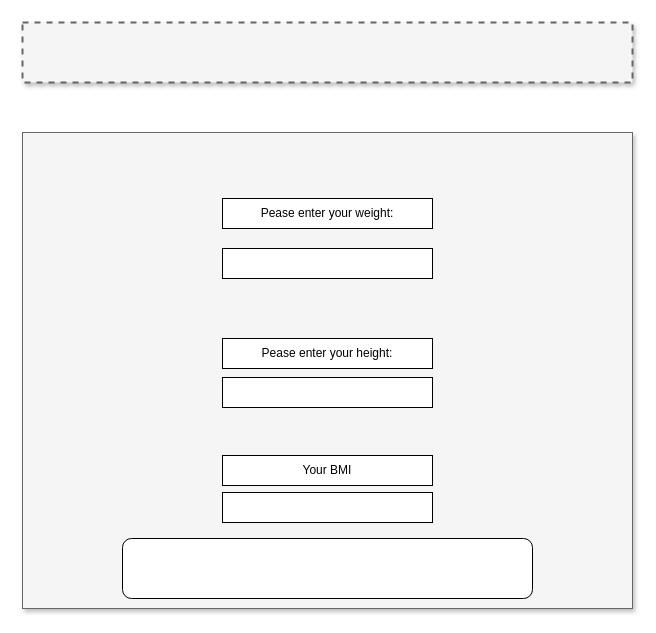
The diagram is 656 pixels wide and 633 high, and some of its shapes have lost their labels. Here are the shapes that lost their labels. From the top down, the centre of each, then its label:
At pixel 328 53: "BMI Calculator".
At pixel 327 568: "BMI comment".
